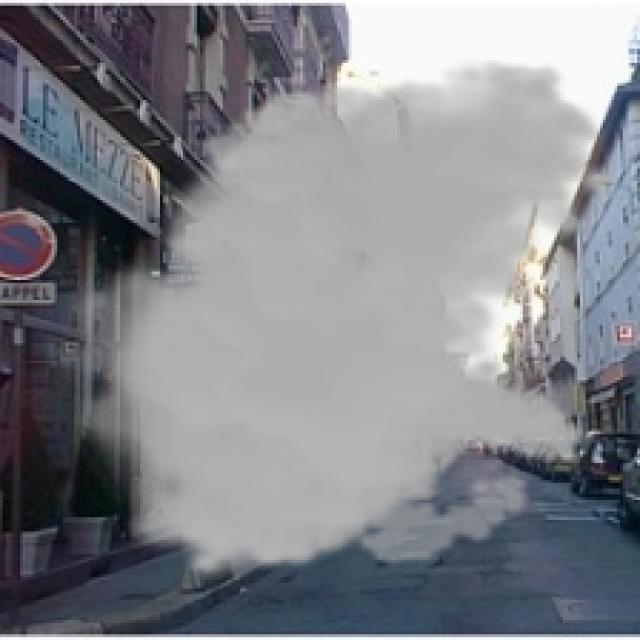smoke: (54, 57, 623, 583)
